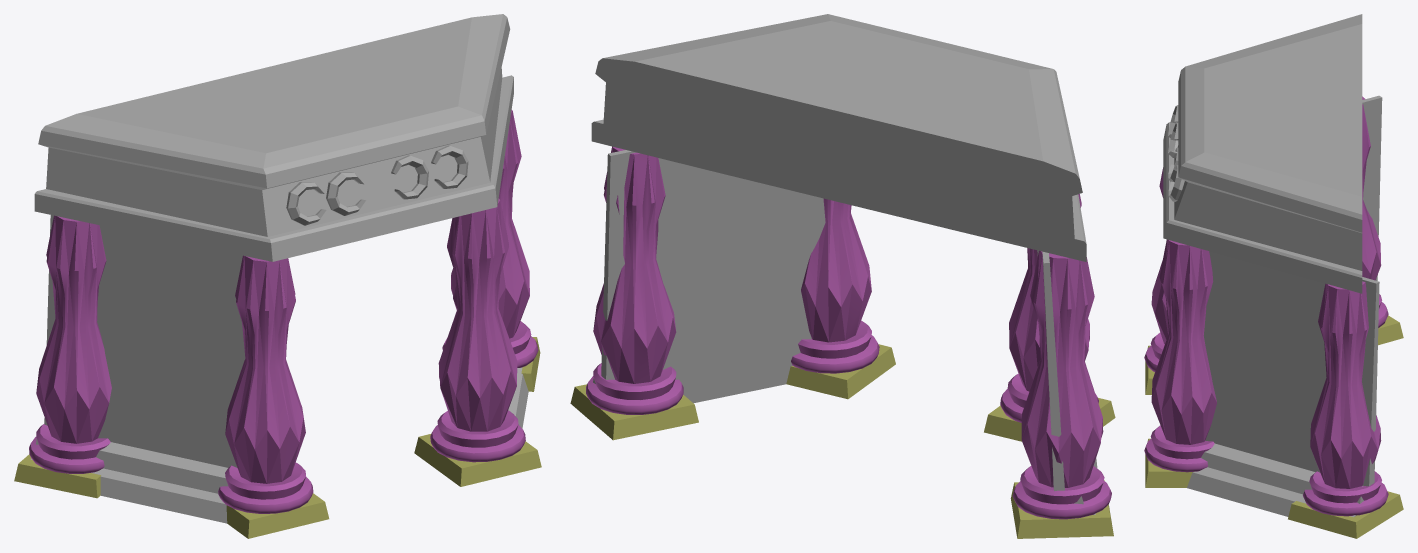
File: SM_Ascenseur_Test_01.fbx
3 views of the same model, side by side, from view 1: azimuth 30°, elevation 25°; view 2: azimuth 150°, elevation 25°; view 3: azimuth 270°, elevation 25° (orthographic). The views are drawn at different scales.
Parts seen in each view (by area): view 1: SM_Ascenseur_Test_01; view 2: SM_Ascenseur_Test_01; view 3: SM_Ascenseur_Test_01.
Part boxes in pixels (x1,y1,x2,y2): SM_Ascenseur_Test_01: [14, 14, 541, 538]; SM_Ascenseur_Test_01: [570, 14, 1115, 538]; SM_Ascenseur_Test_01: [1144, 14, 1403, 538].
Size of the model in its own units: 1733 by 1099 by 825.
